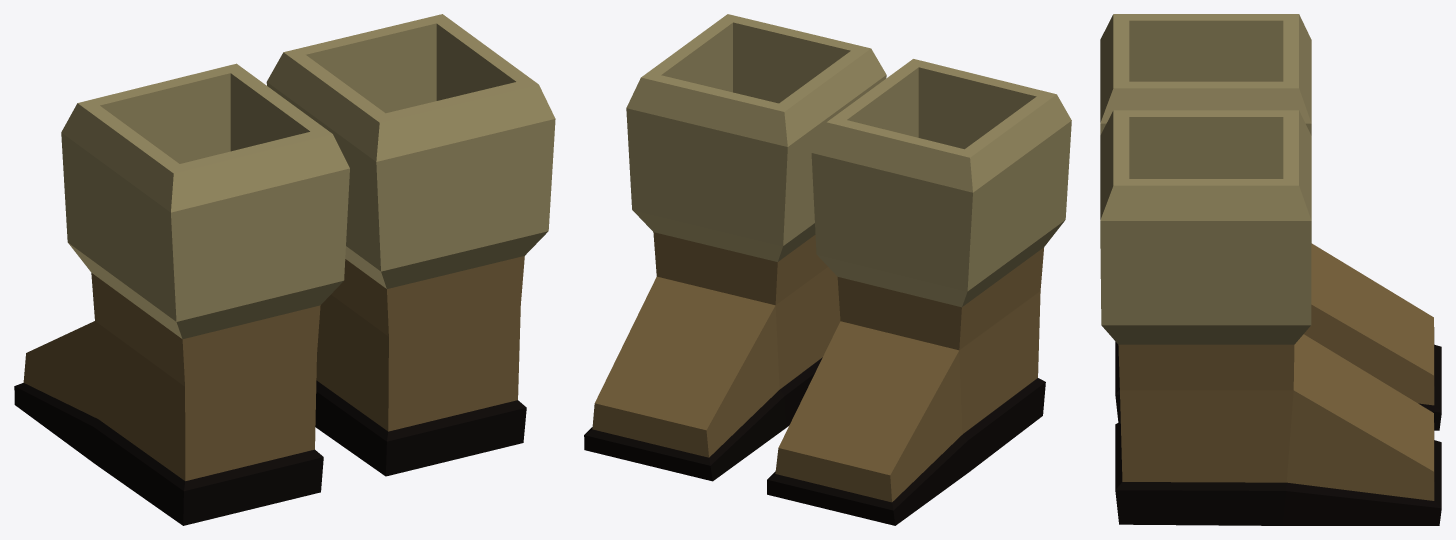
Rendered from Boots.fbx.
3 views of the same model, side by side, from view 1: azimuth 30°, elevation 25°; view 2: azimuth 150°, elevation 25°; view 3: azimuth 270°, elevation 25° (orthographic). The views are drawn at different scales.
Parts seen in each view (by area): view 1: Boot L, Boot R; view 2: Boot L, Boot R; view 3: Boot R, Boot L.
Boxes of the visible parts, box(x1,y1,x2,y2) form: Boot L: box(14, 63, 349, 525); Boot R: box(266, 14, 555, 476); Boot L: box(767, 59, 1071, 525); Boot R: box(584, 14, 886, 481); Boot R: box(1100, 110, 1441, 525); Boot L: box(1100, 14, 1441, 430).
Bounding box in the file's own units: 0.7726 × 0.6874 × 0.6163.
